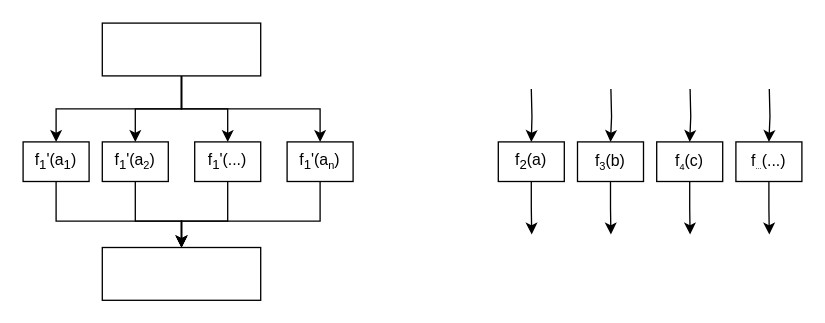
The diagram is 825 pixels wide and 323 high, and some of its shapes have lost their labels. The shapes that lost their labels are listed below. From the top down, each one's centre as x and y in pixels, then its label:
the point at 181,49: f 1 ([a])
the point at 181,273: Aggregated result
